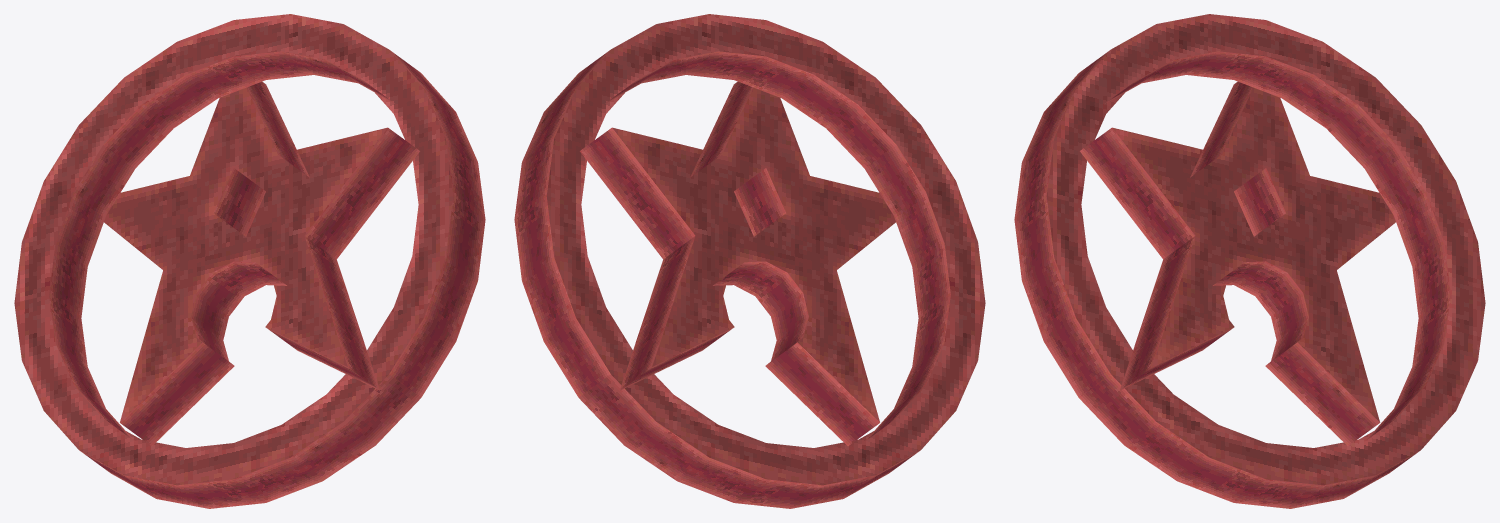
Rendered from ps2_save-icons_stateofemergency2.glb.
3 renders of one model, left to right at view 1: azimuth 30°, elevation 25°; view 2: azimuth 150°, elevation 25°; view 3: azimuth 330°, elevation 25°, orthographic.
Visible parts, largest first — view 1: SPANKY.ICO; view 2: SPANKY.ICO; view 3: SPANKY.ICO.
Boxes of the visible parts, x1,y1,x2,y2 form: SPANKY.ICO: (14,14,485,508); SPANKY.ICO: (514,14,985,508); SPANKY.ICO: (1014,14,1485,508).
Bounding box in the file's own units: 2.39 × 2.39 × 0.3042.
Materials: 1 (1 with a texture image).
